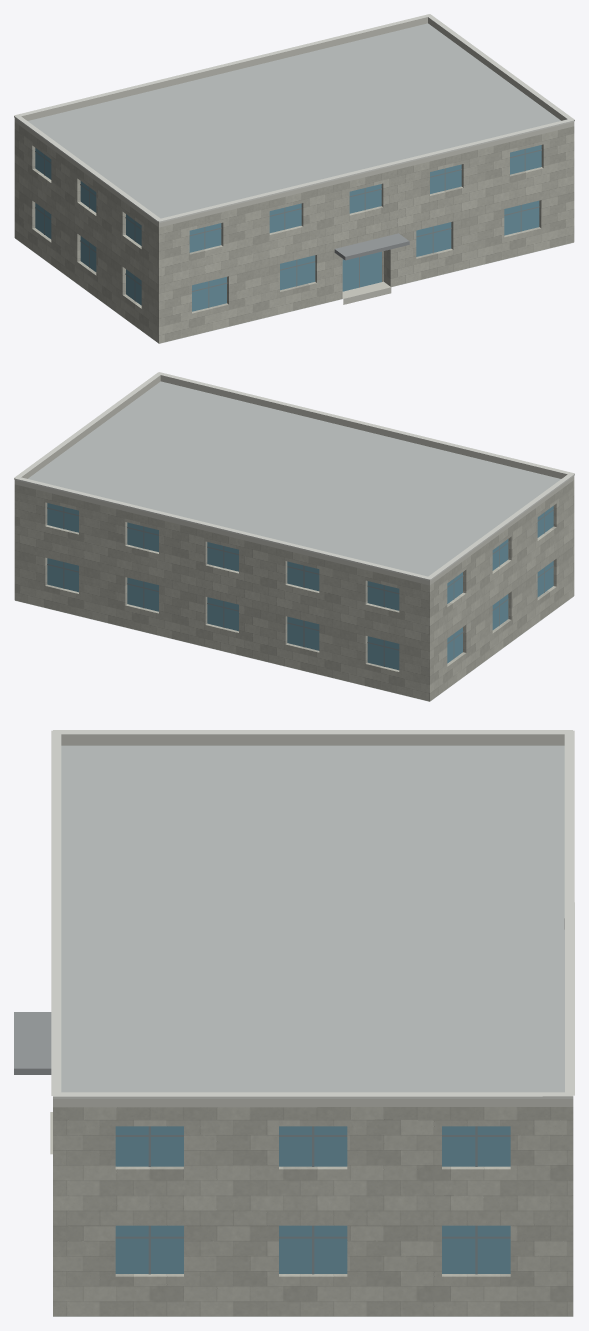
3 views of the same model, one above another, from view 1: azimuth 30°, elevation 25°; view 2: azimuth 150°, elevation 25°; view 3: azimuth 270°, elevation 25° (orthographic). The views are drawn at different scales.
Visible parts, largest first — view 1: unist-batch-b605__parapet, b605__wall, b605__glass, b605__trim, b605__frame, b605__canopy, b605__entranceThreshold_0; view 2: unist-batch-b605__parapet, b605__wall, b605__glass, b605__trim, b605__frame; view 3: unist-batch-b605__parapet, b605__wall, b605__glass, b605__trim, b605__canopy, b605__frame.
Boxes of the visible parts, x1,y1,x2,y2 form: unist-batch-b605__parapet: (14,17,574,343); b605__wall: (14,122,574,343); b605__glass: (35,145,541,311); b605__trim: (14,14,574,222); b605__frame: (35,149,541,307); b605__canopy: (334,233,409,260); b605__entranceThreshold_0: (342,281,391,304); unist-batch-b605__parapet: (14,375,574,701); b605__wall: (14,480,574,701); b605__glass: (47,503,553,670); b605__trim: (14,372,574,580); b605__frame: (47,507,553,666); unist-batch-b605__parapet: (53,734,573,1316); b605__wall: (53,1107,573,1316); b605__glass: (115,1126,510,1273); b605__trim: (51,730,574,1098); b605__canopy: (14,1012,51,1074); b605__frame: (115,1126,510,1274).
Size of the model in its own units: 31.18 by 9.15 by 20.17.
7 materials, 1 textured.
